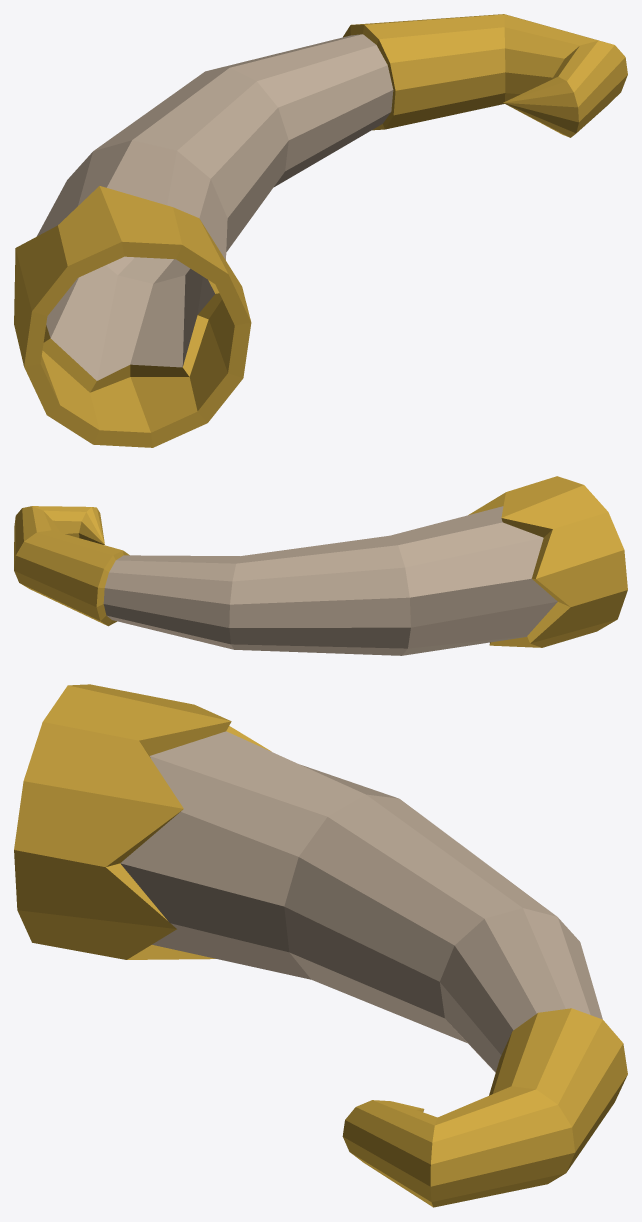
The model's file is gjallerhorn.fbx.
The picture shows the model from 3 angles, top to bottom: view 1: azimuth 30°, elevation 25°; view 2: azimuth 150°, elevation 25°; view 3: azimuth 270°, elevation 25°; orthographic projection. The views are drawn at different scales.
Parts seen in each view (by area): view 1: Torus.010; view 2: Torus.010; view 3: Torus.010.
Part boxes in pixels (bbox=[...]): Torus.010: bbox=[14, 14, 627, 447]; Torus.010: bbox=[14, 476, 627, 655]; Torus.010: bbox=[14, 684, 627, 1207].
Bounding box in the file's own units: 255 × 68.22 × 157.
